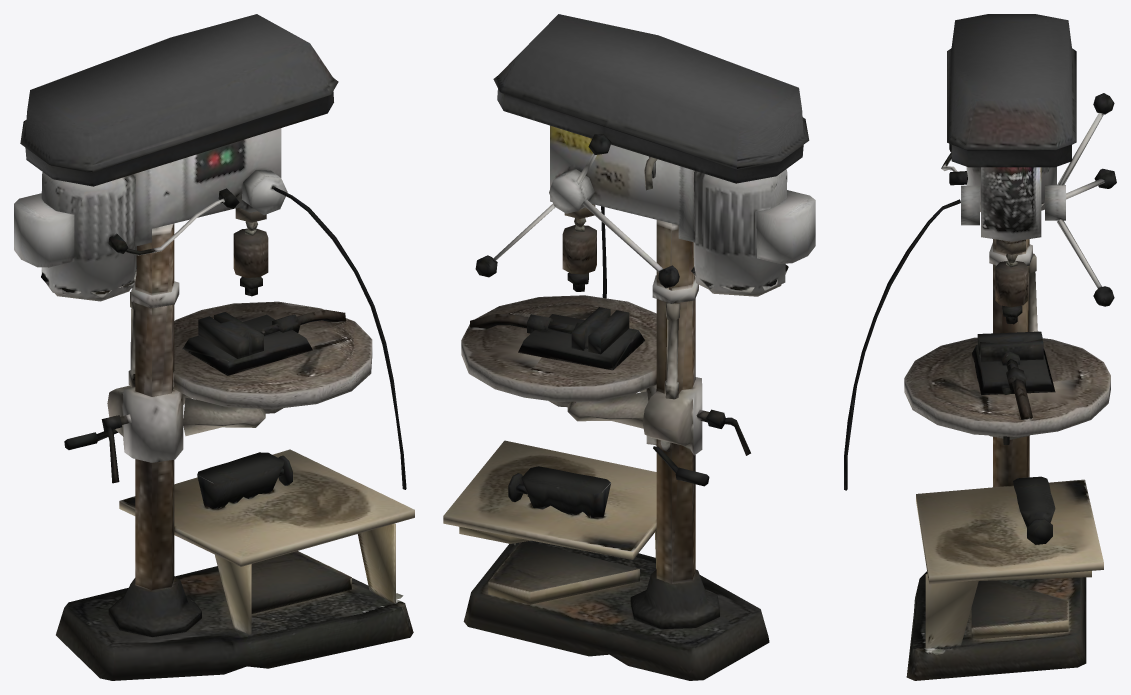
File: tripo_convert_5a9131cb-eff4-4f8d-a74c-fc842ca81a42.fbx
3 views of the same model, side by side, from view 1: azimuth 30°, elevation 25°; view 2: azimuth 150°, elevation 25°; view 3: azimuth 270°, elevation 25° (orthographic). The views are drawn at different scales.
Parts seen in each view (by area): view 1: tripo_node_5a9131cb; view 2: tripo_node_5a9131cb; view 3: tripo_node_5a9131cb.
Boxes of the visible parts, bbox=[...] form: tripo_node_5a9131cb: bbox=[14, 14, 414, 680]; tripo_node_5a9131cb: bbox=[443, 14, 815, 680]; tripo_node_5a9131cb: bbox=[844, 14, 1116, 680].
Bounding box in the file's own units: 0.627 × 0.998 × 0.4512.
1 material, 1 textured.
